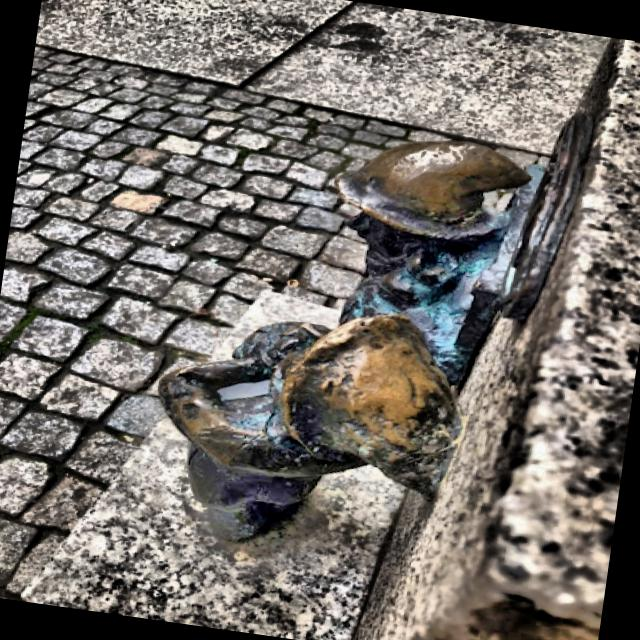Kantorki: (162, 141, 543, 541)
